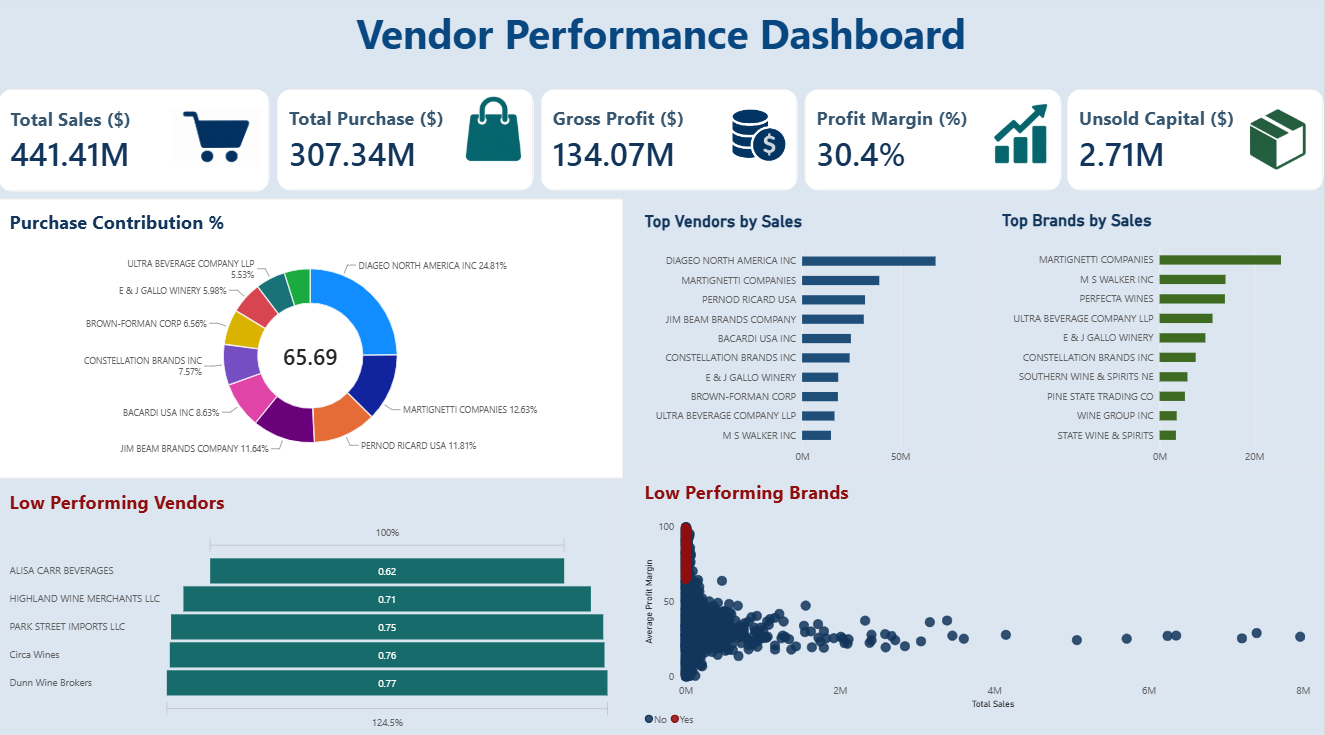

Layout of this report page (visuals, bound fields, positions):
{"tool":"powerbi","page":{"name":"Page 1","canvas":[1920,1080],"ordinal":0},"visuals":[{"type":"textbox","box":[0,0,1920,134.5],"z":0},{"type":"donutChart","title":"Purchase Contribution %","fields":{"Y":["Sum(PurchaseContribution.PurchaseContribution%)"],"Category":["PurchaseContribution.VendorName"]},"box":[0,295.4,904.6,404.9],"z":1000},{"type":"barChart","title":"Top Vendors by Sales","fields":{"Category":["vendor_sales_summary.VendorName"],"Y":["Sum(vendor_sales_summary.TotalSalesDollars)"]},"box":[919.2,299.1,503.3,401.2],"z":2000},{"type":"barChart","title":"Top Brands by Sales","fields":{"Y":["Sum(vendor_sales_summary.Brand)"],"Category":["vendor_sales_summary.VendorName"]},"box":[1437.1,297.3,481.5,403],"z":3000},{"type":"funnel","title":"Low Performing Vendors","fields":{"Category":["LowTurnOverVendor.VendorName"],"Y":["Sum(LowTurnOverVendor.AvgStockTurnOver)"]},"box":[0,700.3,904.6,379.3],"z":4000},{"type":"scatterChart","title":"Low Performing Brands","fields":{"Category":["BrandPerformance.Description"],"X":["Sum(BrandPerformance.TotalSales)"],"Y":["Sum(BrandPerformance.AvgProfitMargin)"],"Series":["BrandPerformance.TargetBrand"]},"box":[919.2,685.7,1001.2,393.9],"z":5000},{"type":"cardVisual","fields":{"Data":["Sum(vendor_sales_summary.TotalSalesDollars)"]},"box":[0,135,393.9,149.5],"z":6000},{"type":"cardVisual","fields":{"Data":["Sum(vendor_sales_summary.TotalPurchaseDollars)"]},"box":[402.9,135,372.8,148.4],"z":7000},{"type":"cardVisual","fields":{"Data":["Sum(vendor_sales_summary.GrossProfit)"]},"box":[784.7,135,372.8,148.4],"z":8000},{"type":"cardVisual","fields":{"Data":["vendor_sales_summary.Profit Margin %"]},"box":[1166.5,135,372.8,148.4],"z":9000},{"type":"cardVisual","fields":{"Data":["Sum(vendor_sales_summary.UnsoldCapital)"]},"box":[1547.2,135,372.8,148.4],"z":10000},{"type":"image","box":[249.7,146.6,132.1,117.6],"z":11000},{"type":"image","box":[675,146.6,85.1,94.1],"z":12000},{"type":"image","box":[1420.6,150.2,119.4,94.1],"z":13000},{"type":"image","box":[1044.2,143,123.1,97.7],"z":14000},{"type":"image","box":[1786.1,141.2,133.9,143],"z":15000}]}

Visuals, with their boxes in screenshot pixels (x1, y1, x2, y2), scaled from the page's 1920x1080 canvas onto the 1325x735 screenshot:
textbox: [x1=0, y1=0, x2=1324, y2=92]
"Purchase Contribution %" donutChart: [x1=0, y1=201, x2=624, y2=477]
"Top Vendors by Sales" barChart: [x1=634, y1=204, x2=982, y2=477]
"Top Brands by Sales" barChart: [x1=992, y1=202, x2=1324, y2=477]
"Low Performing Vendors" funnel: [x1=0, y1=477, x2=624, y2=734]
"Low Performing Brands" scatterChart: [x1=634, y1=467, x2=1324, y2=734]
cardVisual - Sum(vendor_sales_summary.TotalSalesDollars): [x1=0, y1=92, x2=272, y2=194]
cardVisual - Sum(vendor_sales_summary.TotalPurchaseDollars): [x1=278, y1=92, x2=535, y2=193]
cardVisual - Sum(vendor_sales_summary.GrossProfit): [x1=542, y1=92, x2=799, y2=193]
cardVisual - vendor_sales_summary.Profit Margin %: [x1=805, y1=92, x2=1062, y2=193]
cardVisual - Sum(vendor_sales_summary.UnsoldCapital): [x1=1068, y1=92, x2=1324, y2=193]
image: [x1=172, y1=100, x2=263, y2=180]
image: [x1=466, y1=100, x2=525, y2=164]
image: [x1=980, y1=102, x2=1063, y2=166]
image: [x1=721, y1=97, x2=806, y2=164]
image: [x1=1233, y1=96, x2=1324, y2=193]
